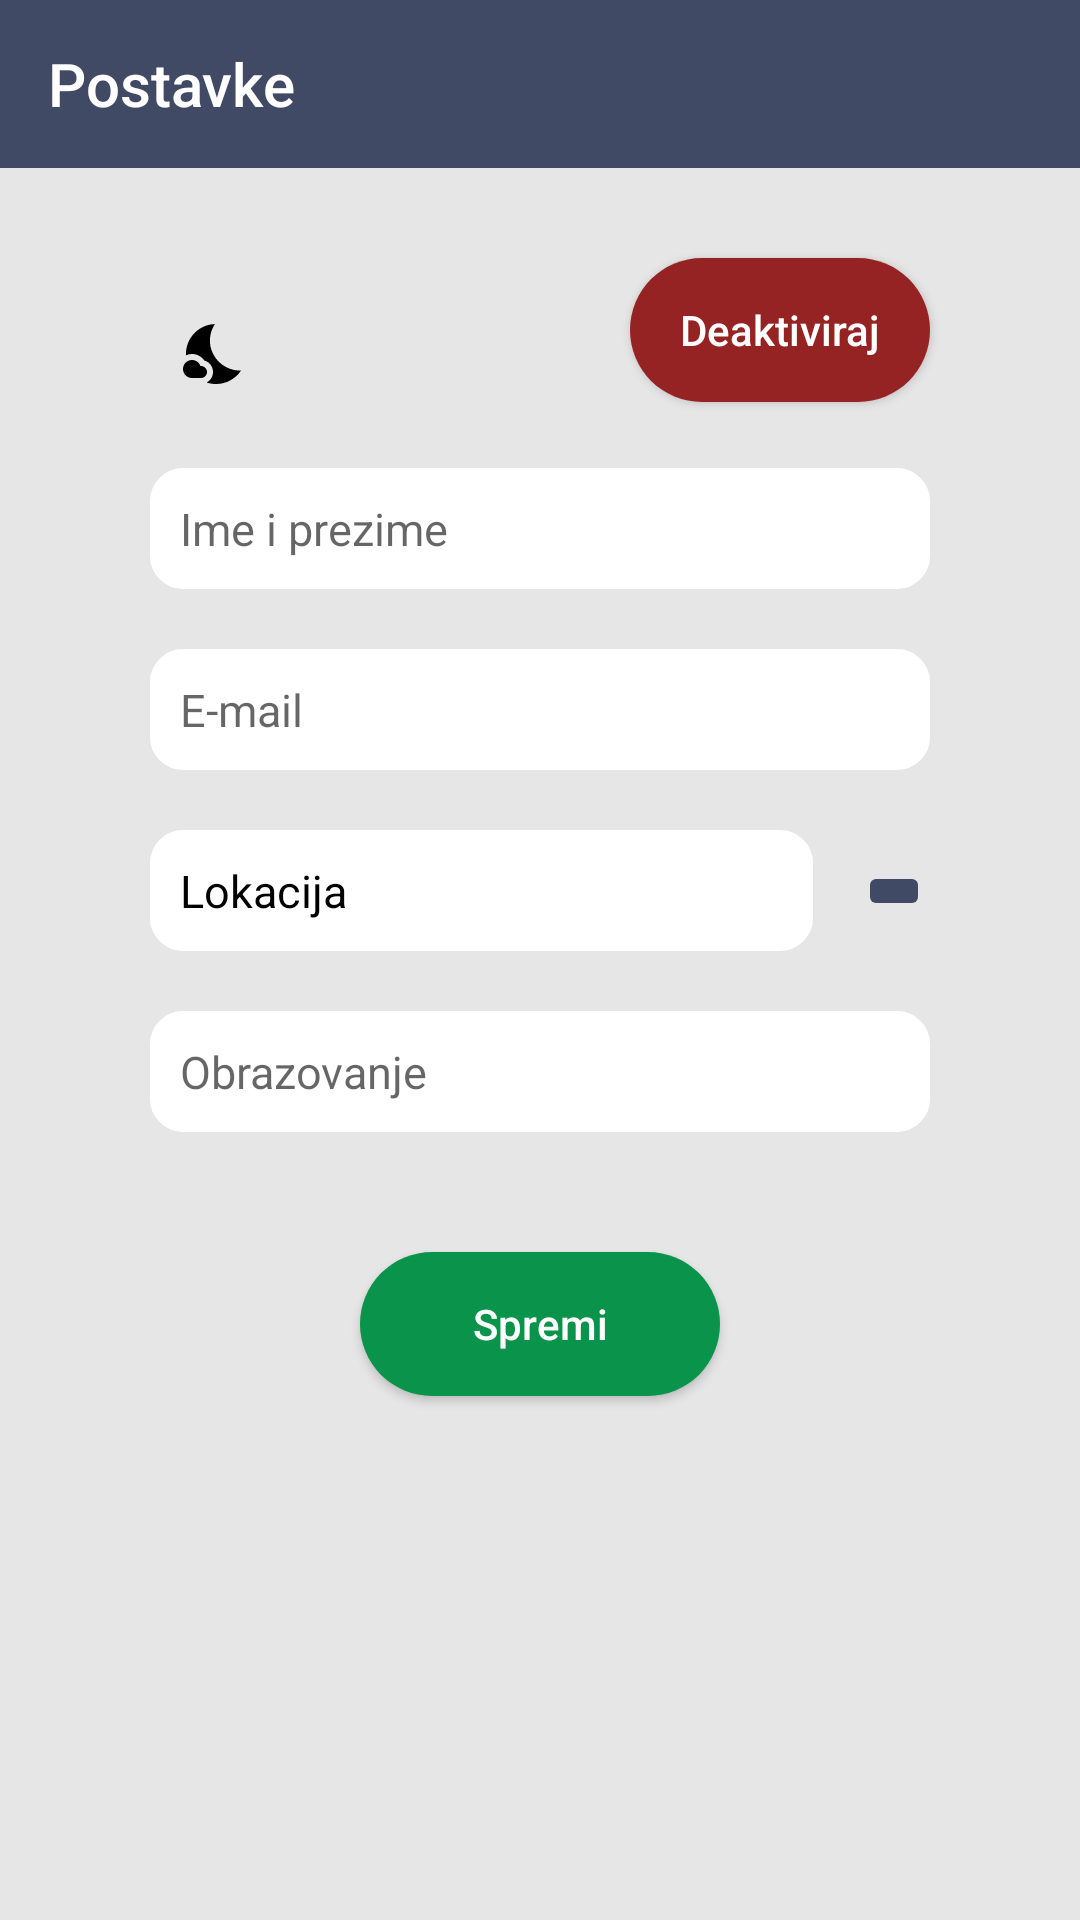

Icons on this 1080w x 1920h Android screen, each with the point to tap as (x,y):
night mode: (212,354)
